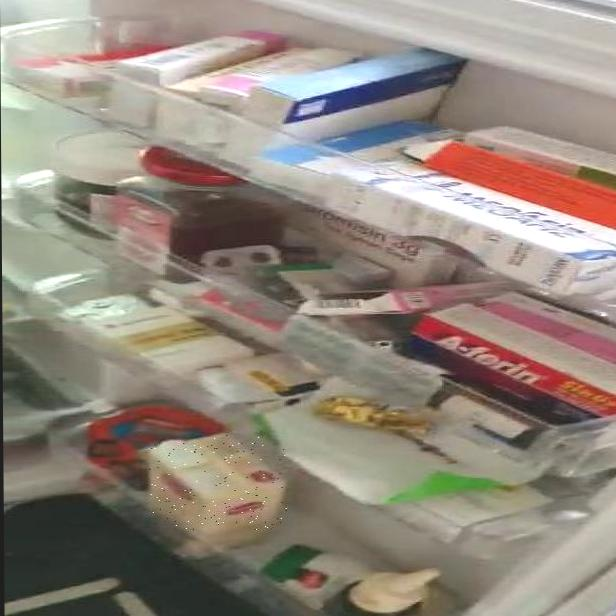eggs: (147, 435, 287, 531)
